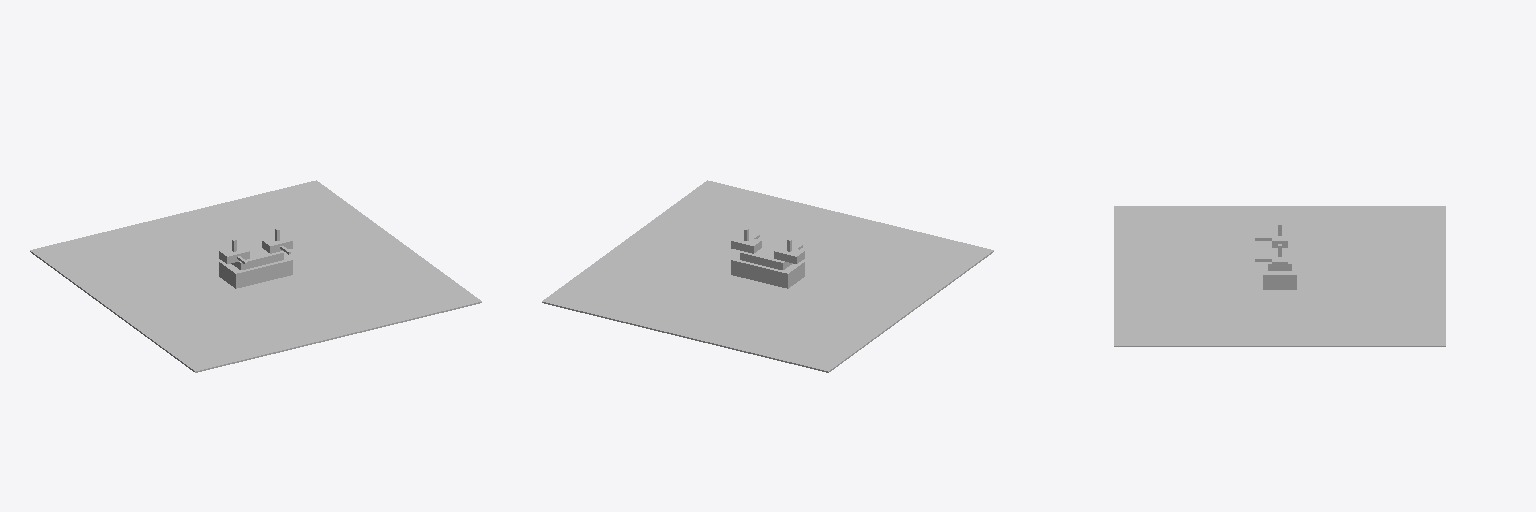
Rendered from Figures.obj.
3 renders of one model, left to right at view 1: azimuth 30°, elevation 25°; view 2: azimuth 150°, elevation 25°; view 3: azimuth 270°, elevation 25°, orthographic.
Parts seen in each view (by area): view 1: Floor, Tank; view 2: Floor, Tank; view 3: Floor, Tank.
Boxes of the visible parts, x1=… form: Floor: x1=30, y1=180, x2=481, y2=372; Tank: x1=219, y1=229, x2=292, y2=288; Floor: x1=542, y1=180, x2=993, y2=372; Tank: x1=731, y1=229, x2=804, y2=288; Floor: x1=1114, y1=206, x2=1445, y2=346; Tank: x1=1255, y1=223, x2=1296, y2=289.
Size of the model in its own units: 20 by 2.85 by 20.